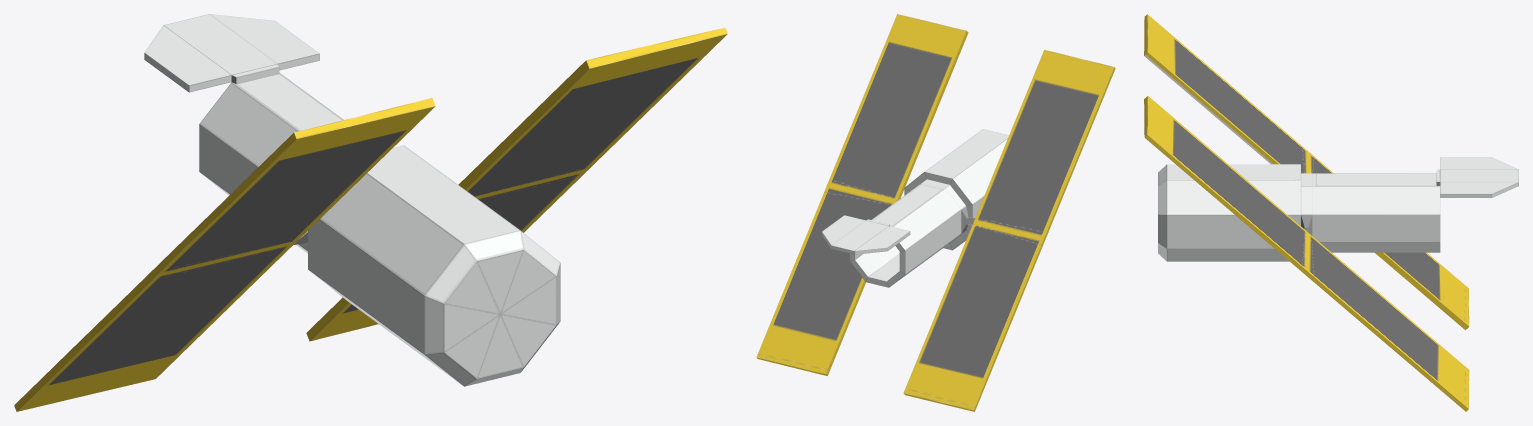
File: Hubble.fbx
3 renders of one model, left to right at view 1: azimuth 30°, elevation 25°; view 2: azimuth 150°, elevation 25°; view 3: azimuth 270°, elevation 25°, orthographic. The views are drawn at different scales.
Visible parts, largest first — view 1: pCylinder1; view 2: pCylinder1; view 3: pCylinder1.
Boxes of the visible parts, bbox=[...] form: pCylinder1: bbox=[14, 14, 727, 411]; pCylinder1: bbox=[756, 14, 1115, 411]; pCylinder1: bbox=[1144, 14, 1518, 411].
Bounding box in the file's own units: 30.91 × 33.12 × 40.49.
1 material, 1 textured.
